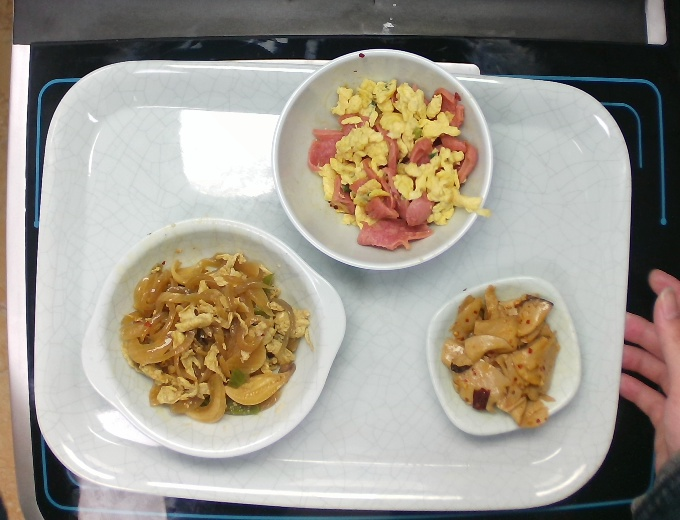JYsf-Fan_Wan: (267, 49, 497, 271)
JYsf-Shuang_Er_Wan: (79, 212, 349, 460)
JYsf-Si_Fang_Die: (424, 272, 591, 444)
